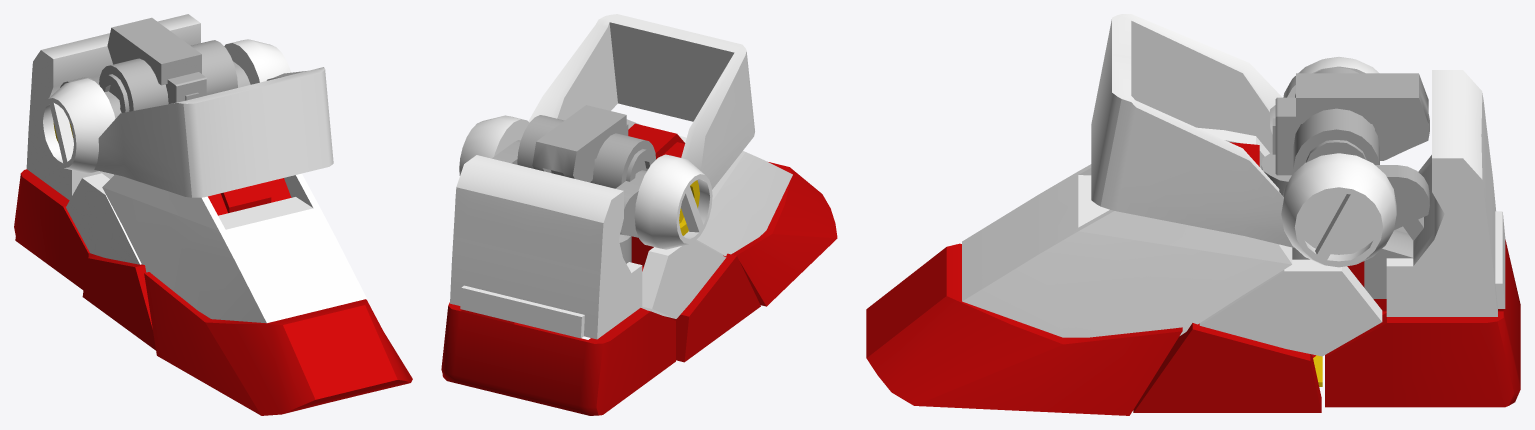
Rendered from rightfoot.fbx.
3 renders of one model, left to right at view 1: azimuth 30°, elevation 25°; view 2: azimuth 150°, elevation 25°; view 3: azimuth 270°, elevation 25°, orthographic. The views are drawn at different scales.
Visible parts, largest first — view 1: rightfoot; view 2: rightfoot; view 3: rightfoot.
Part boxes in pixels (x1,y1,x2,y2): rightfoot: (14, 14, 412, 415); rightfoot: (441, 14, 837, 415); rightfoot: (866, 14, 1520, 415).
Size of the model in its own units: 397 by 435 by 842.
